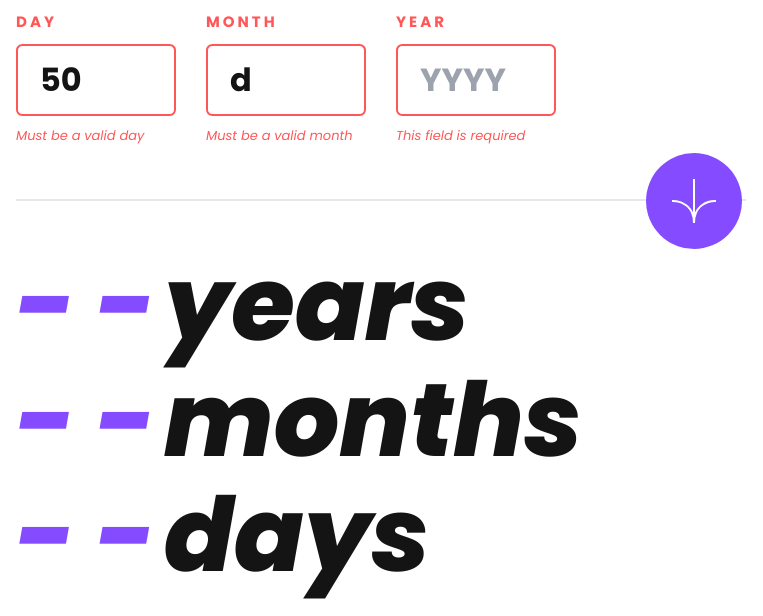
Test case: Renders component correctly › Should have invalid date error messages
The image size is (763, 616).
Replace the text in the field labelled "Day" with "31" at (96, 80), box [16,44,176,116]
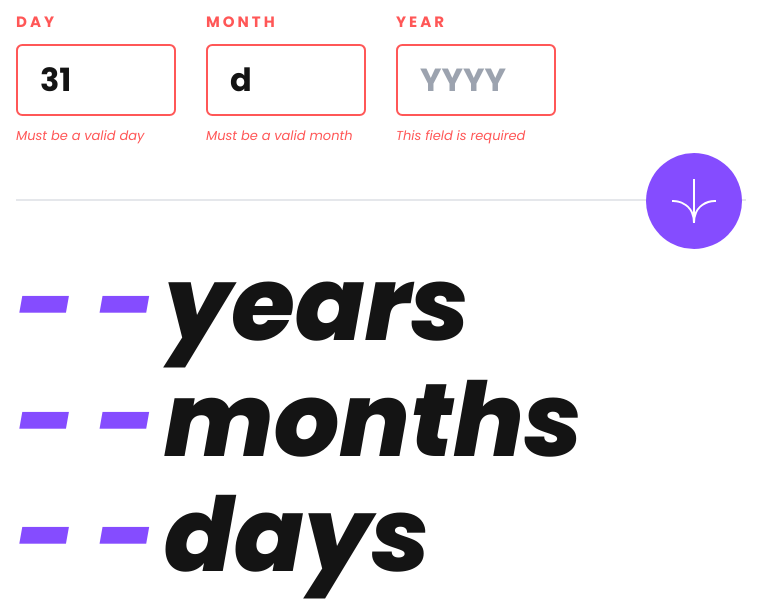
Replace the text in the field labelled "Month" with "4" at (286, 80), box [206,44,366,116]
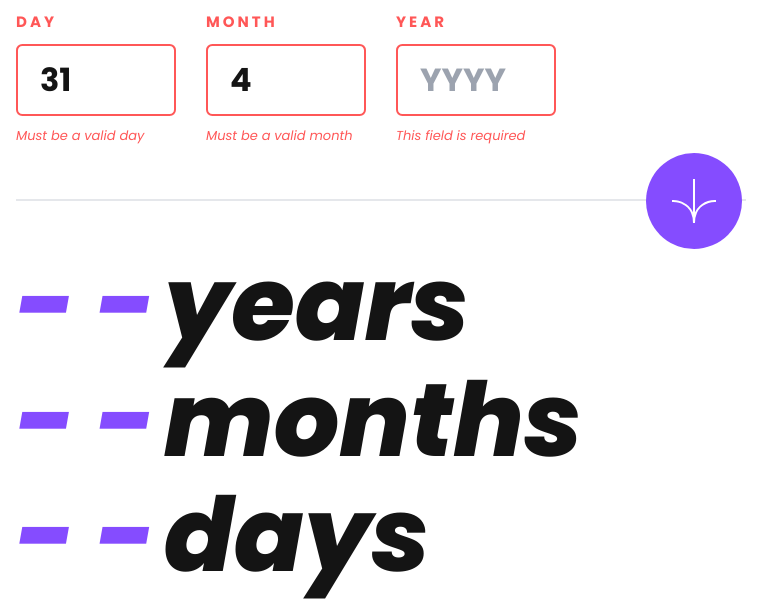
Click the button with test id "submit-button".
click(694, 201)  # box [646,153,742,249]
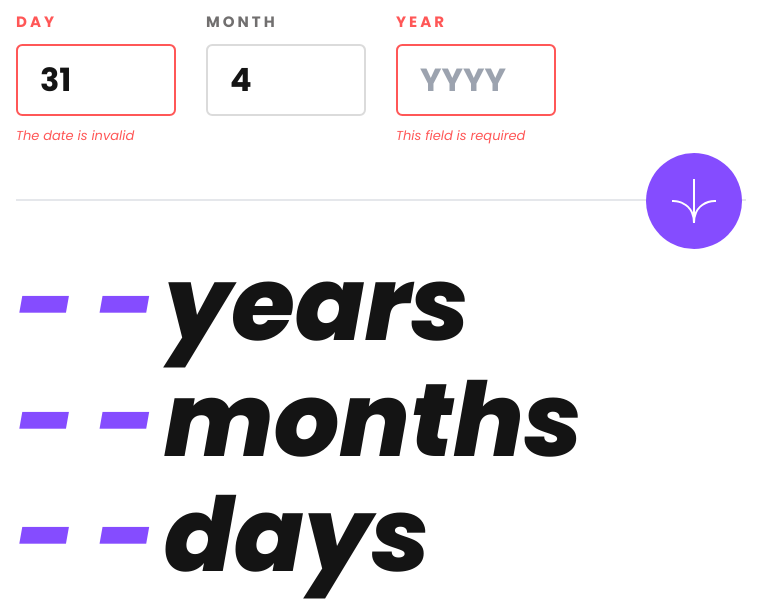
Expected: the text with class "error-message" reads "The date is invalid", [16,126,134,144]
